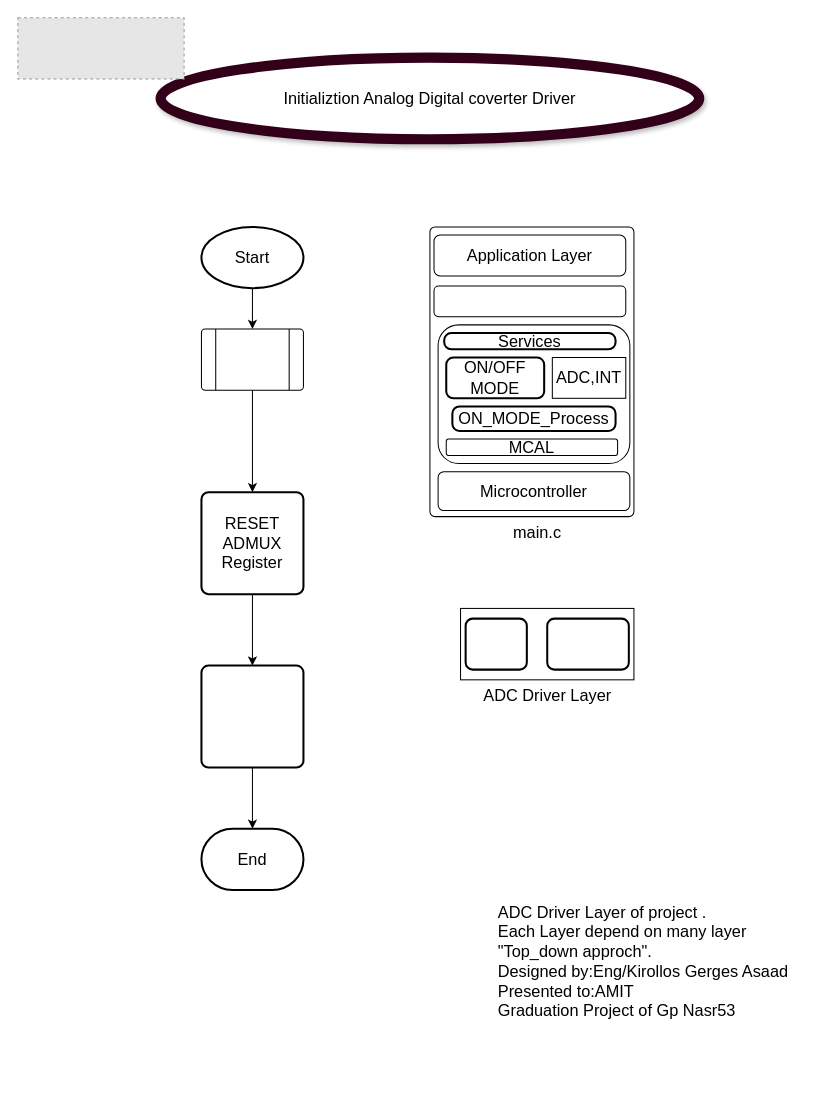
The diagram is 840 pixels wide and 1118 high, and some of its shapes have lost their labels. Grey dashed boxes stand in for pictures. The centre of each missing label's shape, as x and y in pixels:
"ADCSRA register" belongs at [587,643].
"ADMUX Register" belongs at [495,643].
"RTE" belongs at [529,301].
"SET BIT 7,1,0 in ADCSRA register" belongs at [252,716].
"Void ADC_init (void)" belongs at [251,359].
